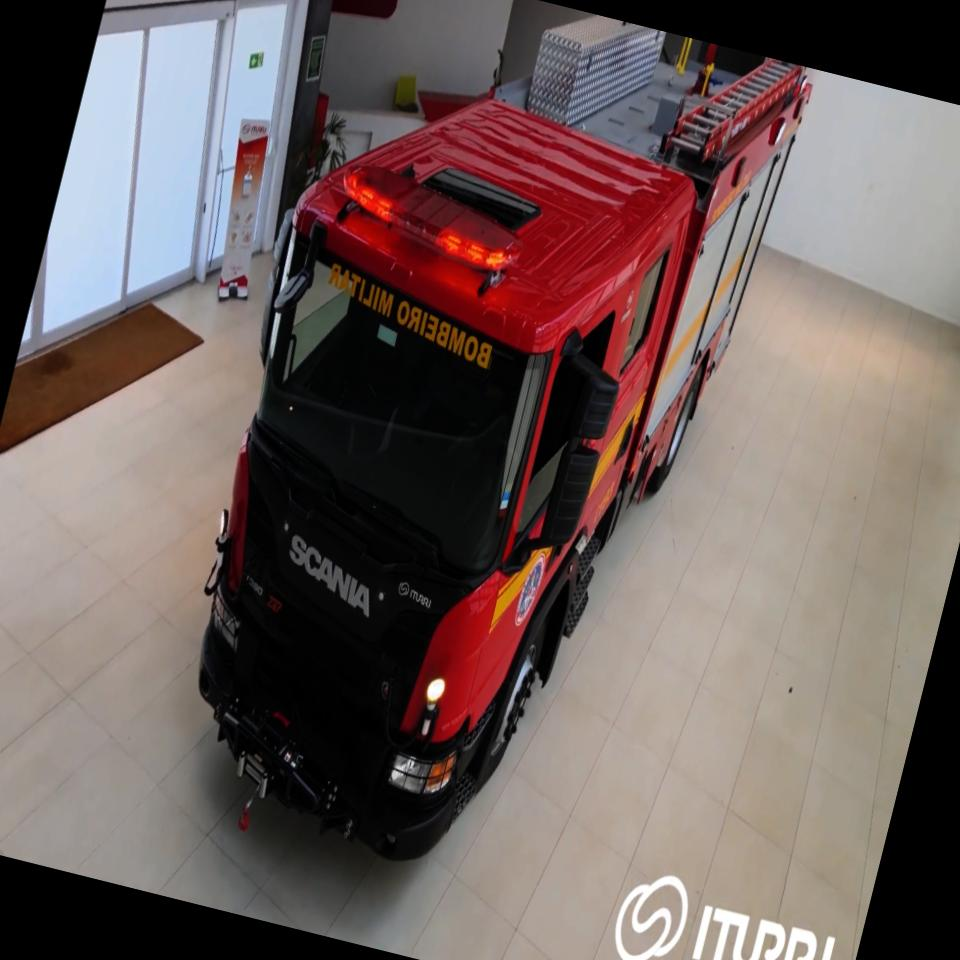viatura: (137, 0, 818, 922)
